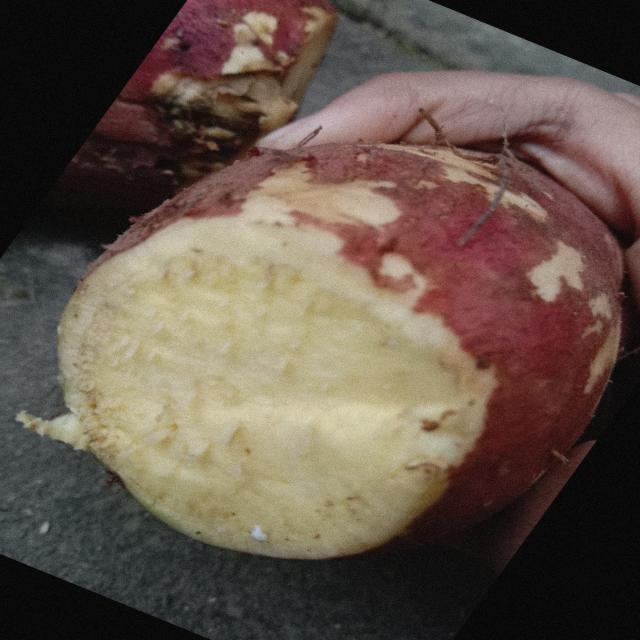Healthy Sweet Potato: (58, 216, 497, 559)
